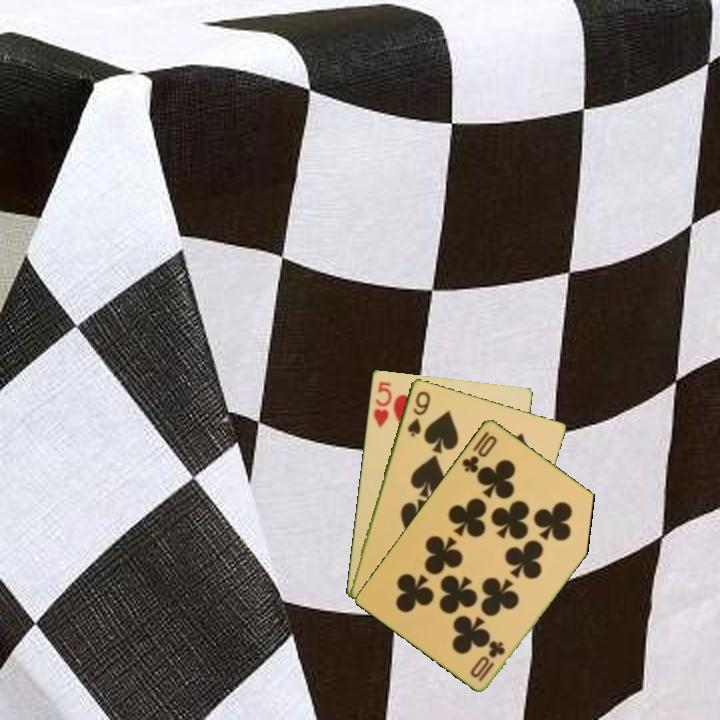10c: (458, 427, 500, 476), (475, 637, 508, 684)
5h: (369, 377, 395, 430)
9s: (404, 387, 433, 439)
